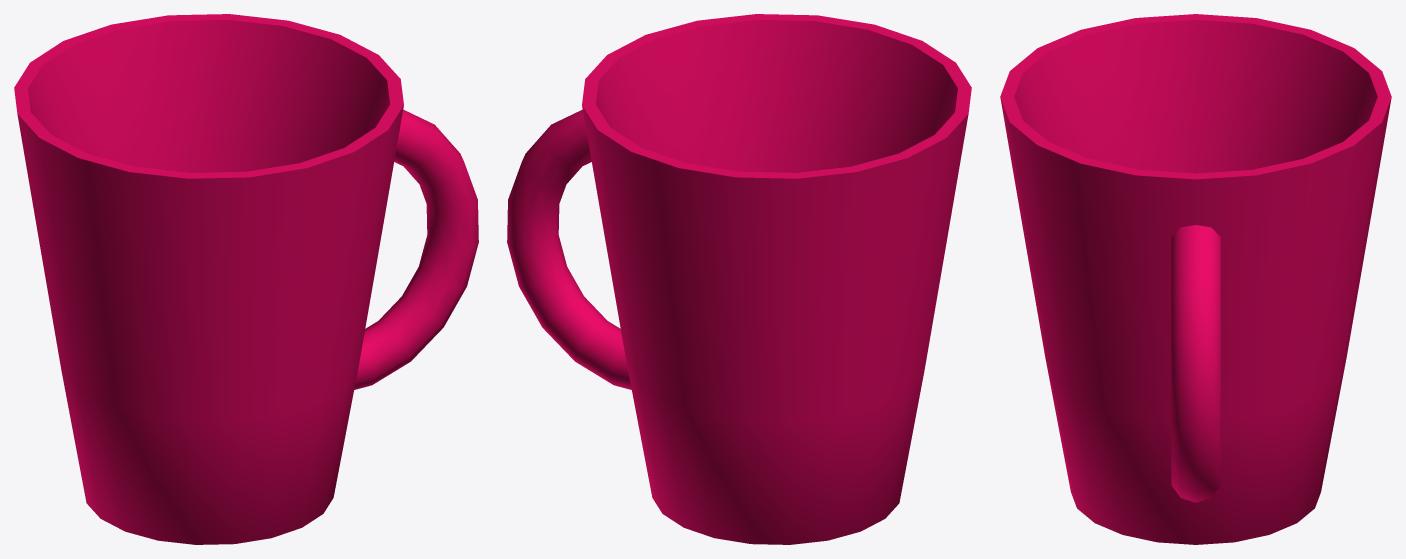
The model's file is Cup_01_Lod0.fbx.
3 renders of one model, left to right at view 1: azimuth 30°, elevation 25°; view 2: azimuth 150°, elevation 25°; view 3: azimuth 270°, elevation 25°, orthographic.
Parts seen in each view (by area): view 1: Cup_01_Lod0; view 2: Cup_01_Lod0; view 3: Cup_01_Lod0.
Part boxes in pixels (bbox=[...]): Cup_01_Lod0: bbox=[14, 14, 478, 544]; Cup_01_Lod0: bbox=[507, 14, 971, 544]; Cup_01_Lod0: bbox=[1000, 14, 1391, 544].
Bounding box in the file's own units: 13.74 × 11.92 × 10.69.
